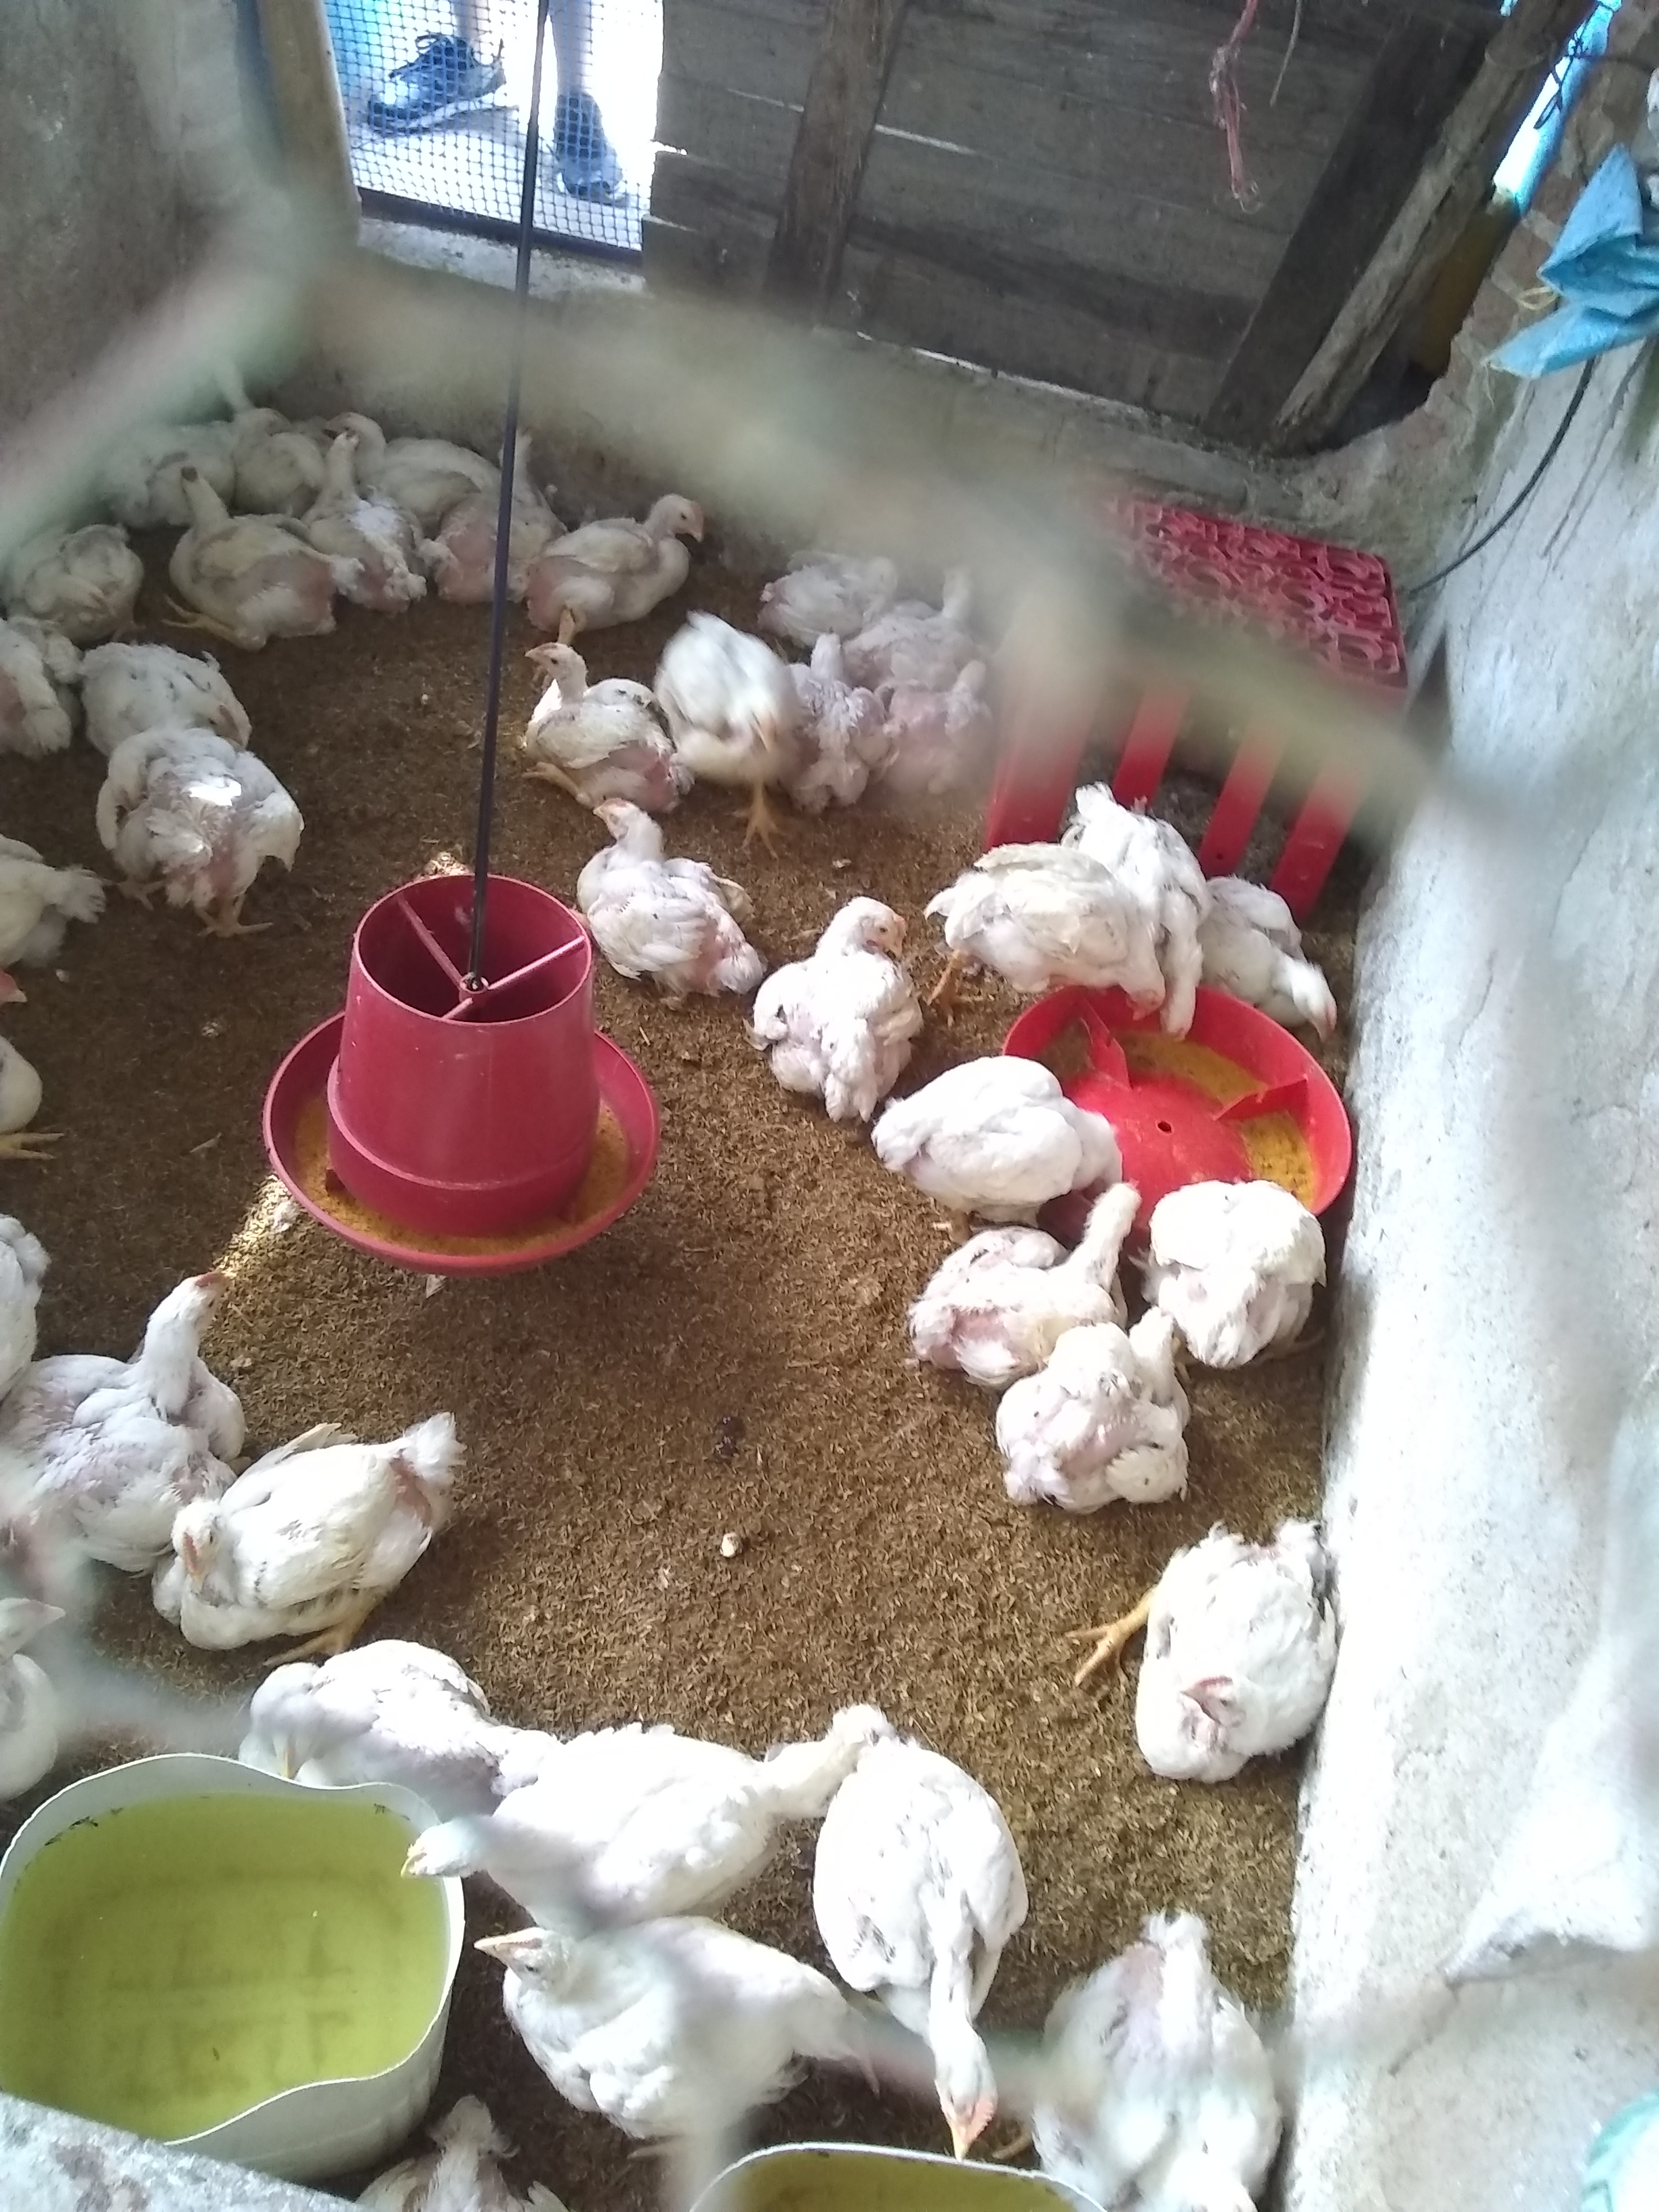Pollos: (833, 1723, 1011, 2160), (162, 1409, 469, 1651), (472, 1914, 826, 2120), (17, 1263, 237, 1569), (396, 1730, 793, 1888), (1147, 1527, 1323, 1782), (945, 840, 1155, 1028), (98, 732, 305, 921), (873, 1050, 1138, 1198), (992, 1312, 1192, 1507), (579, 792, 763, 991), (769, 895, 920, 1115), (1159, 1162, 1326, 1348), (171, 463, 333, 629), (662, 615, 802, 784), (540, 486, 718, 618), (1201, 880, 1338, 1045), (70, 639, 268, 747), (305, 441, 434, 603), (509, 643, 643, 786), (444, 421, 549, 601), (857, 559, 988, 676), (793, 627, 877, 796), (1042, 1179, 1138, 1308), (1152, 857, 1215, 1042)
